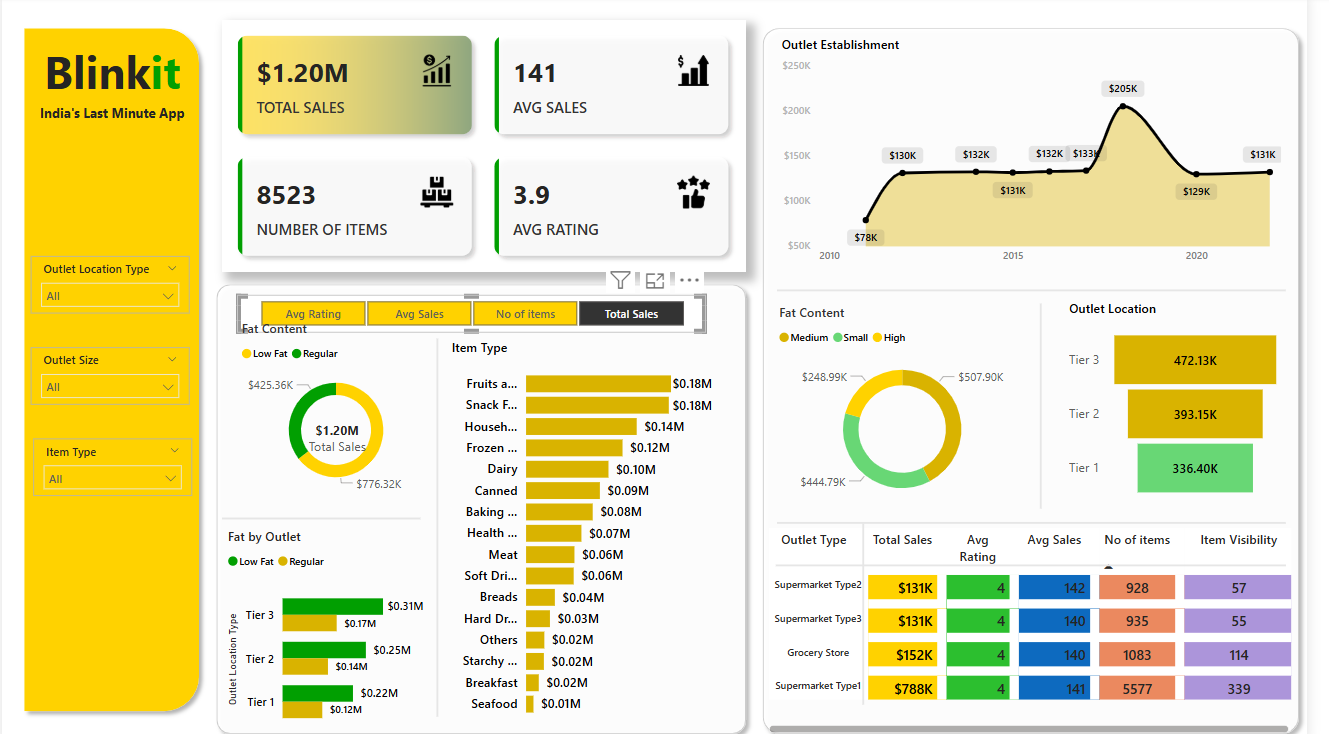

What the dashboard file says about the page in this screenshot:
{"tool":"powerbi","page":{"name":"Page 1","canvas":[1400,800],"ordinal":0},"visuals":[{"type":"shape","box":[15,25.5,205.6,750.4],"z":0},{"type":"textbox","box":[28.5,43.5,180.1,82.5],"z":1000},{"type":"textbox","box":[28.5,111.1,180.1,36],"z":2000},{"type":"cardVisual","fields":{"Data":["BlinkIT Grocery Data.Total Sales","BlinkIT Grocery Data.Avg Sales","BlinkIT Grocery Data.Number of items","BlinkIT Grocery Data.Average Rating"]},"box":[235.7,25.7,561.4,270],"z":3000},{"type":"shape","box":[221.4,300,585.7,500],"z":4000},{"type":"slicer","fields":{"Values":["Metrics.Metrics"]},"box":[251.4,320,502.9,40],"z":5000},{"type":"donutChart","title":"Fat Content","fields":{"Y":["BlinkIT Grocery Data.Total Sales"],"Category":["BlinkIT Grocery Data.Item Fat Content"]},"box":[251.4,347.1,212.9,191.4],"z":6000},{"type":"cardVisual","fields":{"Data":["BlinkIT Grocery Data.Total Sales"]},"box":[297.1,438.6,124.3,71.4],"z":7000},{"type":"clusteredBarChart","title":"Fat by Outlet ","fields":{"Y":["BlinkIT Grocery Data.Total Sales"],"Series":["BlinkIT Grocery Data.Item Fat Content"],"Category":["BlinkIT Grocery Data.Outlet Location Type"]},"box":[237.1,570,220,230],"z":8000},{"type":"shape","box":[448.6,367.1,35.7,405.7],"z":9000},{"type":"shape","box":[235.9,550.9,213.1,18.8],"z":10000},{"type":"clusteredBarChart","title":"Item Type","fields":{"Y":["BlinkIT Grocery Data.Total Sales"],"Category":["BlinkIT Grocery Data.Item Type"]},"box":[477.1,367.1,290,415.7],"z":11000},{"type":"shape","box":[807.1,25.7,592.9,774.3],"z":12000},{"type":"lineChart","title":"Outlet Establishment","fields":{"Category":["BlinkIT Grocery Data.Outlet Establishment Year"],"Y":["BlinkIT Grocery Data.Total Sales"]},"box":[831.4,42.9,545.7,252.9],"z":13000},{"type":"shape","box":[831.1,311,545.6,9.4],"z":14000},{"type":"donutChart","title":"Fat Content","fields":{"Y":["BlinkIT Grocery Data.Total Sales"],"Category":["BlinkIT Grocery Data.Outlet Size"]},"box":[828.6,330,274.3,224.3],"z":15000},{"type":"shape","box":[1102.9,330,21.4,220],"z":16000},{"type":"funnel","title":" Outlet Location","fields":{"Y":["Sum(BlinkIT Grocery Data.Sales)"],"Category":["BlinkIT Grocery Data.Outlet Location Type"]},"box":[1139.4,325.7,237.3,226.5],"z":17000},{"type":"shape","box":[831.1,560.3,545.6,9.4],"z":18000},{"type":"pivotTable","fields":{"Rows":["BlinkIT Grocery Data.Outlet Type"],"Values":["BlinkIT Grocery Data.Total Sales","BlinkIT Grocery Data.Average Rating","BlinkIT Grocery Data.Avg Sales","BlinkIT Grocery Data.Number of items","Sum(BlinkIT Grocery Data.Item Visibility)"]},"box":[817.1,565.7,570,230],"z":19000},{"type":"shape","box":[830,588.6,547.1,44.3],"z":20000},{"type":"shape","box":[912.9,565.7,21.4,194.3],"z":21000},{"type":"slicer","fields":{"Values":["BlinkIT Grocery Data.Outlet Location Type"]},"box":[31.4,278.6,170,61.4],"z":22000},{"type":"slicer","fields":{"Values":["BlinkIT Grocery Data.Item Type"]},"box":[32.9,474.3,170,61.4],"z":23000},{"type":"slicer","fields":{"Values":["BlinkIT Grocery Data.Outlet Size"]},"box":[31.4,377.1,170,61.4],"z":24000}]}

Visuals, with their boxes on the page's 1400x800 design canvas (x1, y1, x2, y2). These are canvas units, not pixel positions in the 1329x734 screenshot, which may show the page scaled, cropped or inside an application window:
shape: 15, 26, 221, 776
textbox: 28, 44, 209, 126
textbox: 28, 111, 209, 147
cardVisual - BlinkIT Grocery Data.Total Sales x BlinkIT Grocery Data.Avg Sales: 236, 26, 797, 296
shape: 221, 300, 807, 800
slicer - Metrics.Metrics: 251, 320, 754, 360
"Fat Content" donutChart: 251, 347, 464, 538
cardVisual - BlinkIT Grocery Data.Total Sales: 297, 439, 421, 510
"Fat by Outlet " clusteredBarChart: 237, 570, 457, 800
shape: 449, 367, 484, 773
shape: 236, 551, 449, 570
"Item Type" clusteredBarChart: 477, 367, 767, 783
shape: 807, 26, 1400, 800
"Outlet Establishment" lineChart: 831, 43, 1377, 296
shape: 831, 311, 1377, 320
"Fat Content" donutChart: 829, 330, 1103, 554
shape: 1103, 330, 1124, 550
" Outlet Location" funnel: 1139, 326, 1377, 552
shape: 831, 560, 1377, 570
pivotTable - BlinkIT Grocery Data.Outlet Type x BlinkIT Grocery Data.Total Sales: 817, 566, 1387, 796
shape: 830, 589, 1377, 633
shape: 913, 566, 934, 760
slicer - BlinkIT Grocery Data.Outlet Location Type: 31, 279, 201, 340
slicer - BlinkIT Grocery Data.Item Type: 33, 474, 203, 536
slicer - BlinkIT Grocery Data.Outlet Size: 31, 377, 201, 438
